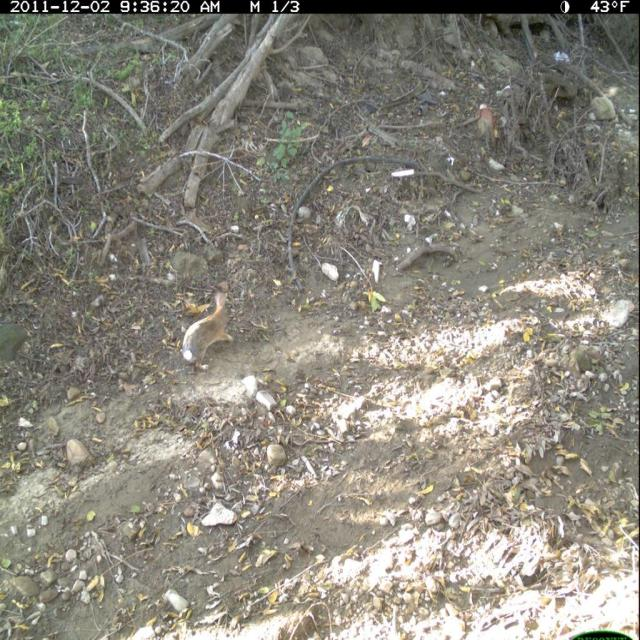rabbit: (177, 285, 241, 387)
